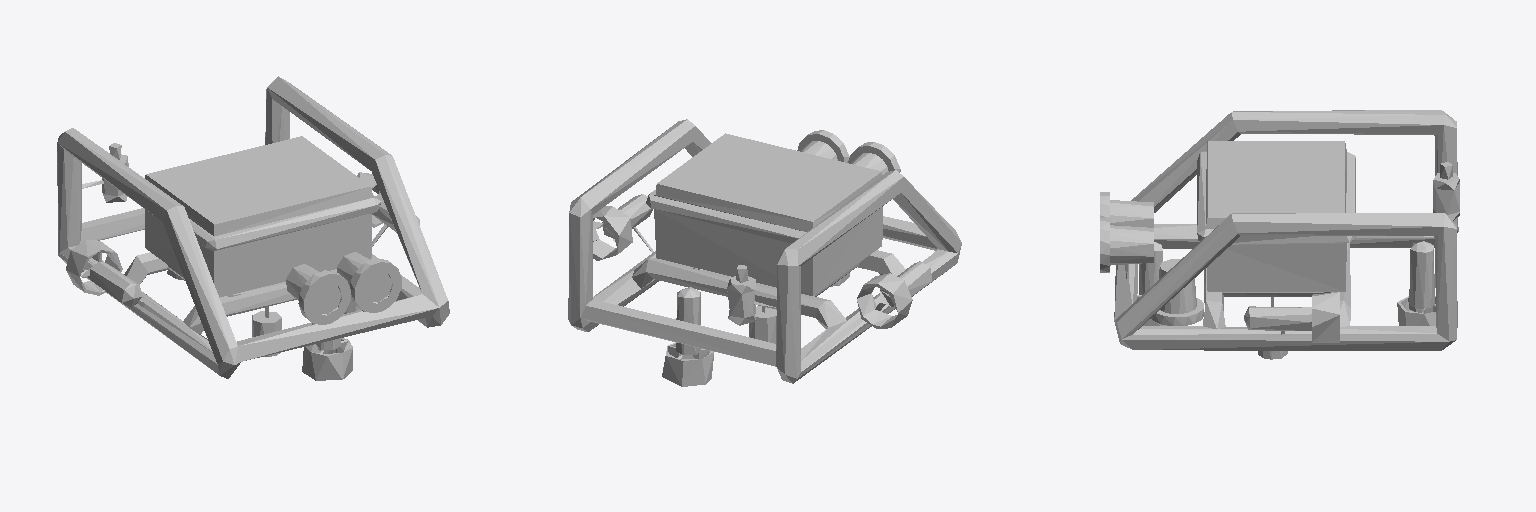
File: hanse_high.obj
3 views of the same model, side by side, from view 1: azimuth 30°, elevation 25°; view 2: azimuth 150°, elevation 25°; view 3: azimuth 270°, elevation 25° (orthographic).
Bounding box in the file's own units: 6.5 × 3.64 × 6.33.